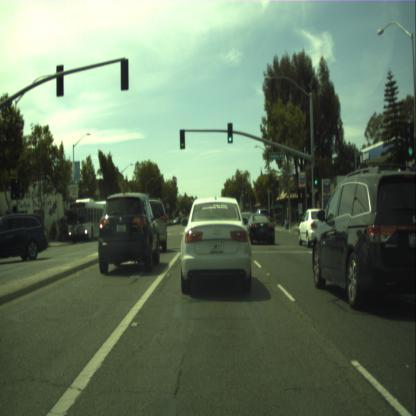Green: (405, 122, 413, 160), (227, 122, 232, 142), (314, 166, 318, 186)
GreenLeft: (10, 178, 17, 200), (179, 129, 185, 149)
